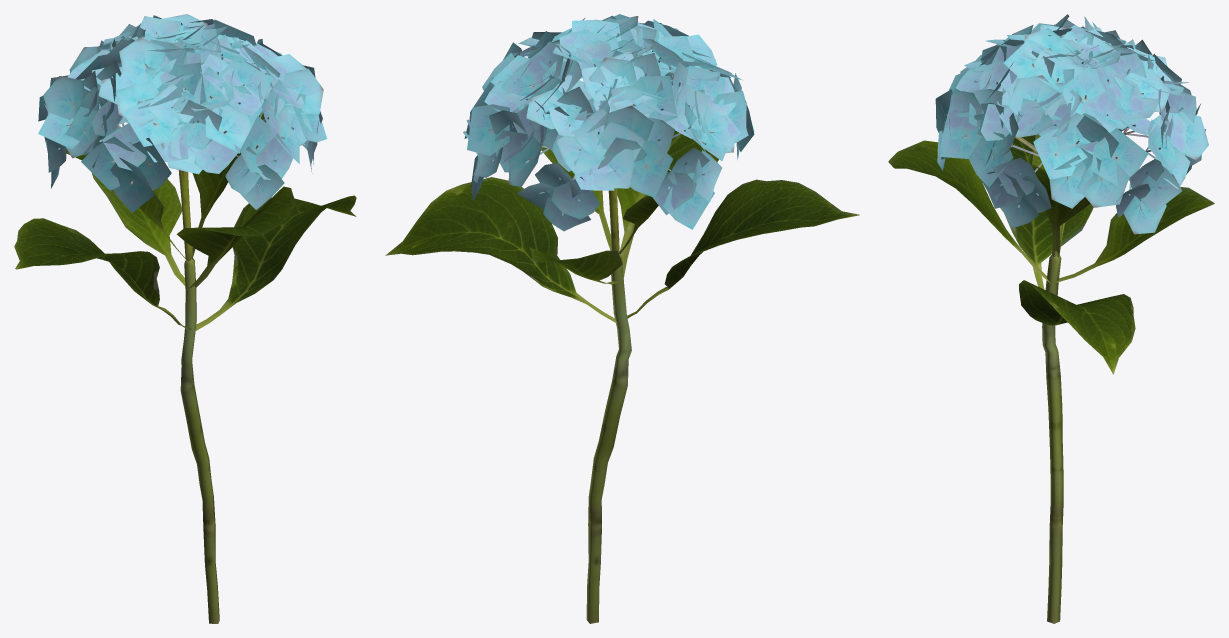
Rendered from Hydrangea_OG_short_cyan.glb.
3 views of the same model, side by side, from view 1: azimuth 30°, elevation 25°; view 2: azimuth 150°, elevation 25°; view 3: azimuth 270°, elevation 25° (orthographic). The views are drawn at different scales.
Parts seen in each view (by area): view 1: Hydrangea; view 2: Hydrangea; view 3: Hydrangea.
Boxes of the visible parts, x1,y1,x2,y2 form: Hydrangea: (14, 14, 356, 623); Hydrangea: (385, 14, 859, 623); Hydrangea: (888, 14, 1214, 623).
Bounding box in the file's own units: 1.38 × 1.94 × 1.
1 material, 1 textured.
